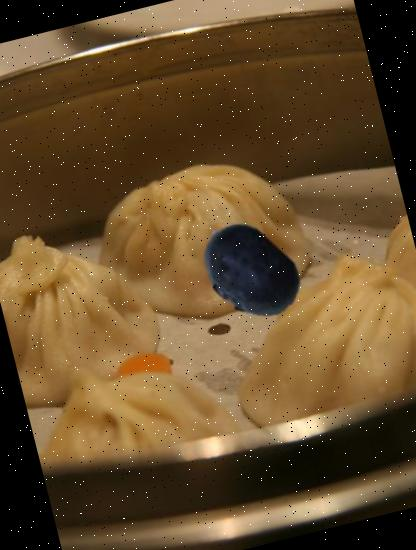Blueberry: (184, 207, 315, 338)
